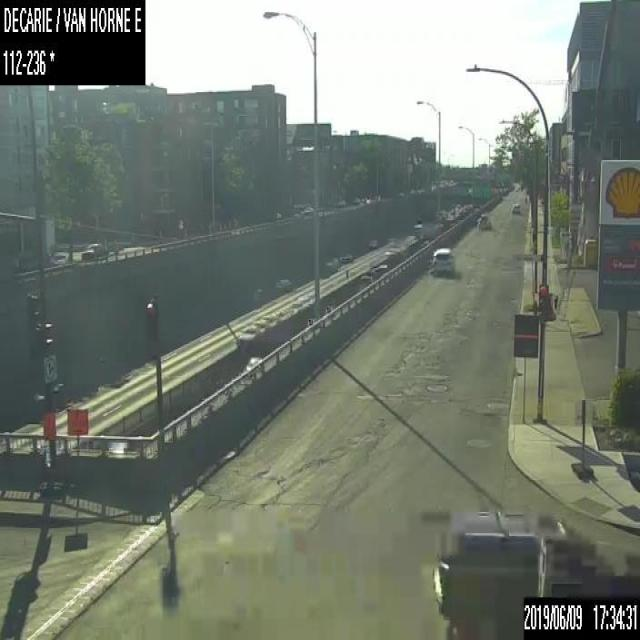construction: (570, 397, 594, 478), (66, 404, 88, 491), (40, 406, 61, 496)
vehicle: (431, 509, 595, 632), (536, 534, 639, 598), (433, 247, 453, 273), (80, 240, 108, 258), (237, 323, 256, 342), (49, 248, 69, 263), (245, 355, 262, 371), (478, 212, 490, 229), (274, 276, 290, 288), (324, 257, 336, 269), (385, 245, 398, 255), (339, 251, 352, 261), (510, 202, 521, 213), (301, 206, 312, 213), (369, 238, 377, 247)
